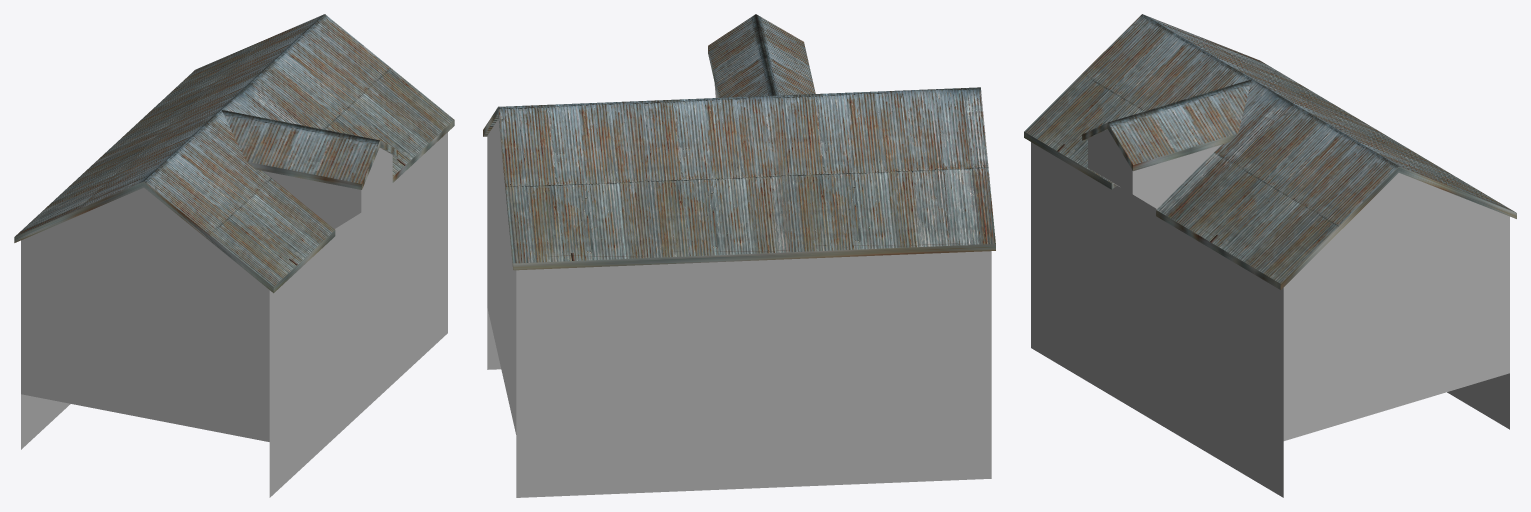
The model's file is SM_GenericBuilding_12.fbx.
3 renders of one model, left to right at view 1: azimuth 30°, elevation 25°; view 2: azimuth 150°, elevation 25°; view 3: azimuth 270°, elevation 25°, orthographic. The views are drawn at different scales.
Visible parts, largest first — view 1: SM_GenericBuilding_12; view 2: SM_GenericBuilding_12; view 3: SM_GenericBuilding_12.
Boxes of the visible parts, x1,y1,x2,y2 form: SM_GenericBuilding_12: [14, 14, 454, 497]; SM_GenericBuilding_12: [483, 14, 995, 497]; SM_GenericBuilding_12: [1024, 14, 1516, 497].
Bounding box in the file's own units: 599 × 373 × 558.
